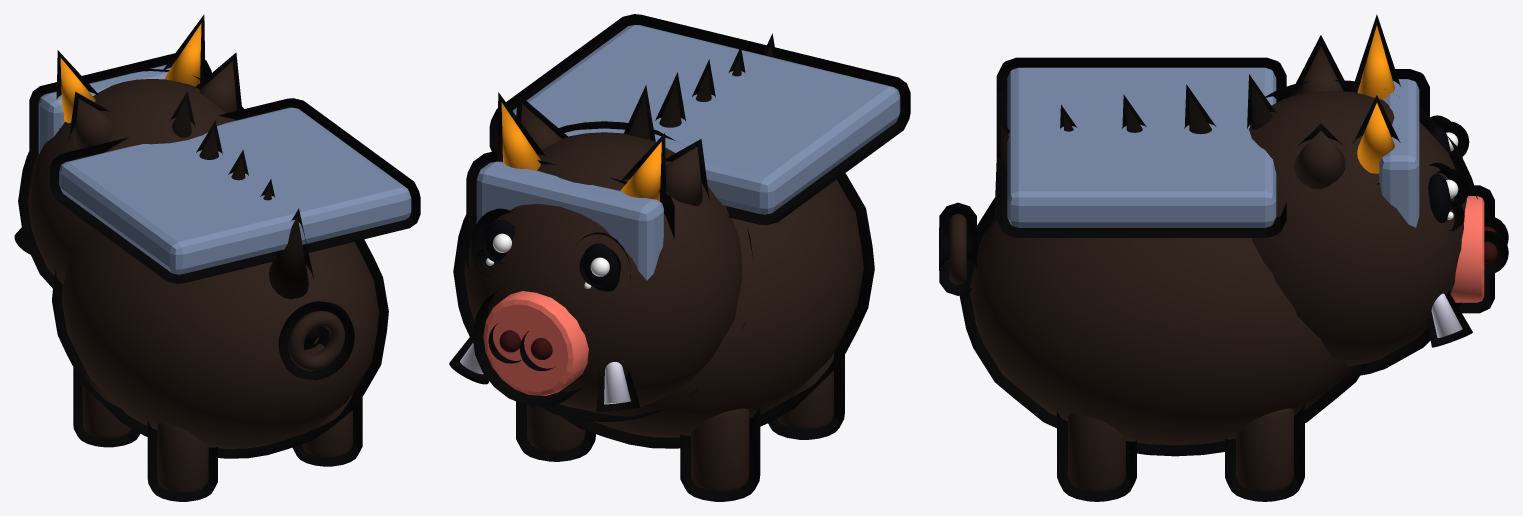
Rendered from Boarlet_3.glb.
3 views of the same model, side by side, from view 1: azimuth 30°, elevation 25°; view 2: azimuth 150°, elevation 25°; view 3: azimuth 270°, elevation 25° (orthographic). The views are drawn at different scales.
Parts seen in each view (by area): view 1: Boarlet_3.001; view 2: Boarlet_3.001; view 3: Boarlet_3.001.
Boxes of the visible parts, <box> form: Boarlet_3.001: <box>14,14,420,501</box>; Boarlet_3.001: <box>449,14,910,501</box>; Boarlet_3.001: <box>939,14,1508,501</box>.
Size of the model in its own units: 3.07 by 3.71 by 4.82.
1 material, 1 textured.
